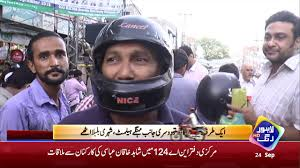helmet: (90, 11, 175, 113)
